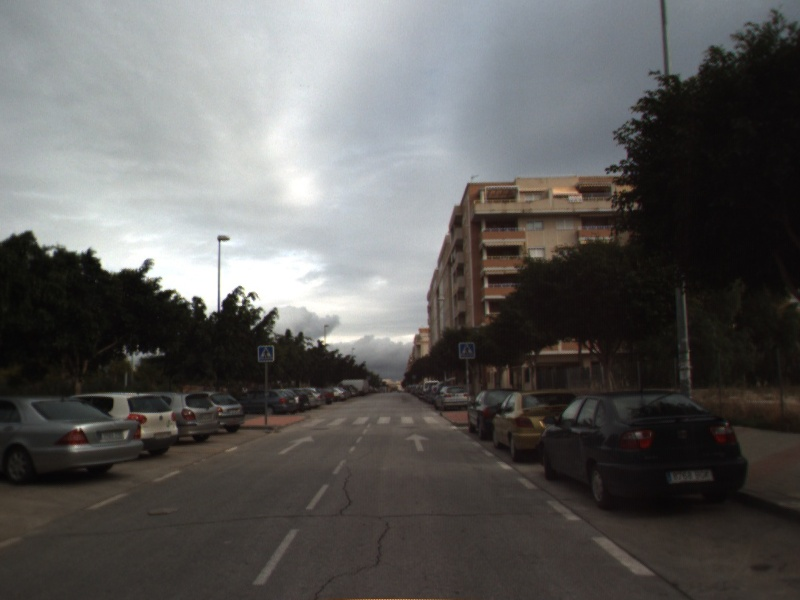STRAIGHT: (276, 434, 316, 456), (402, 431, 432, 453)
